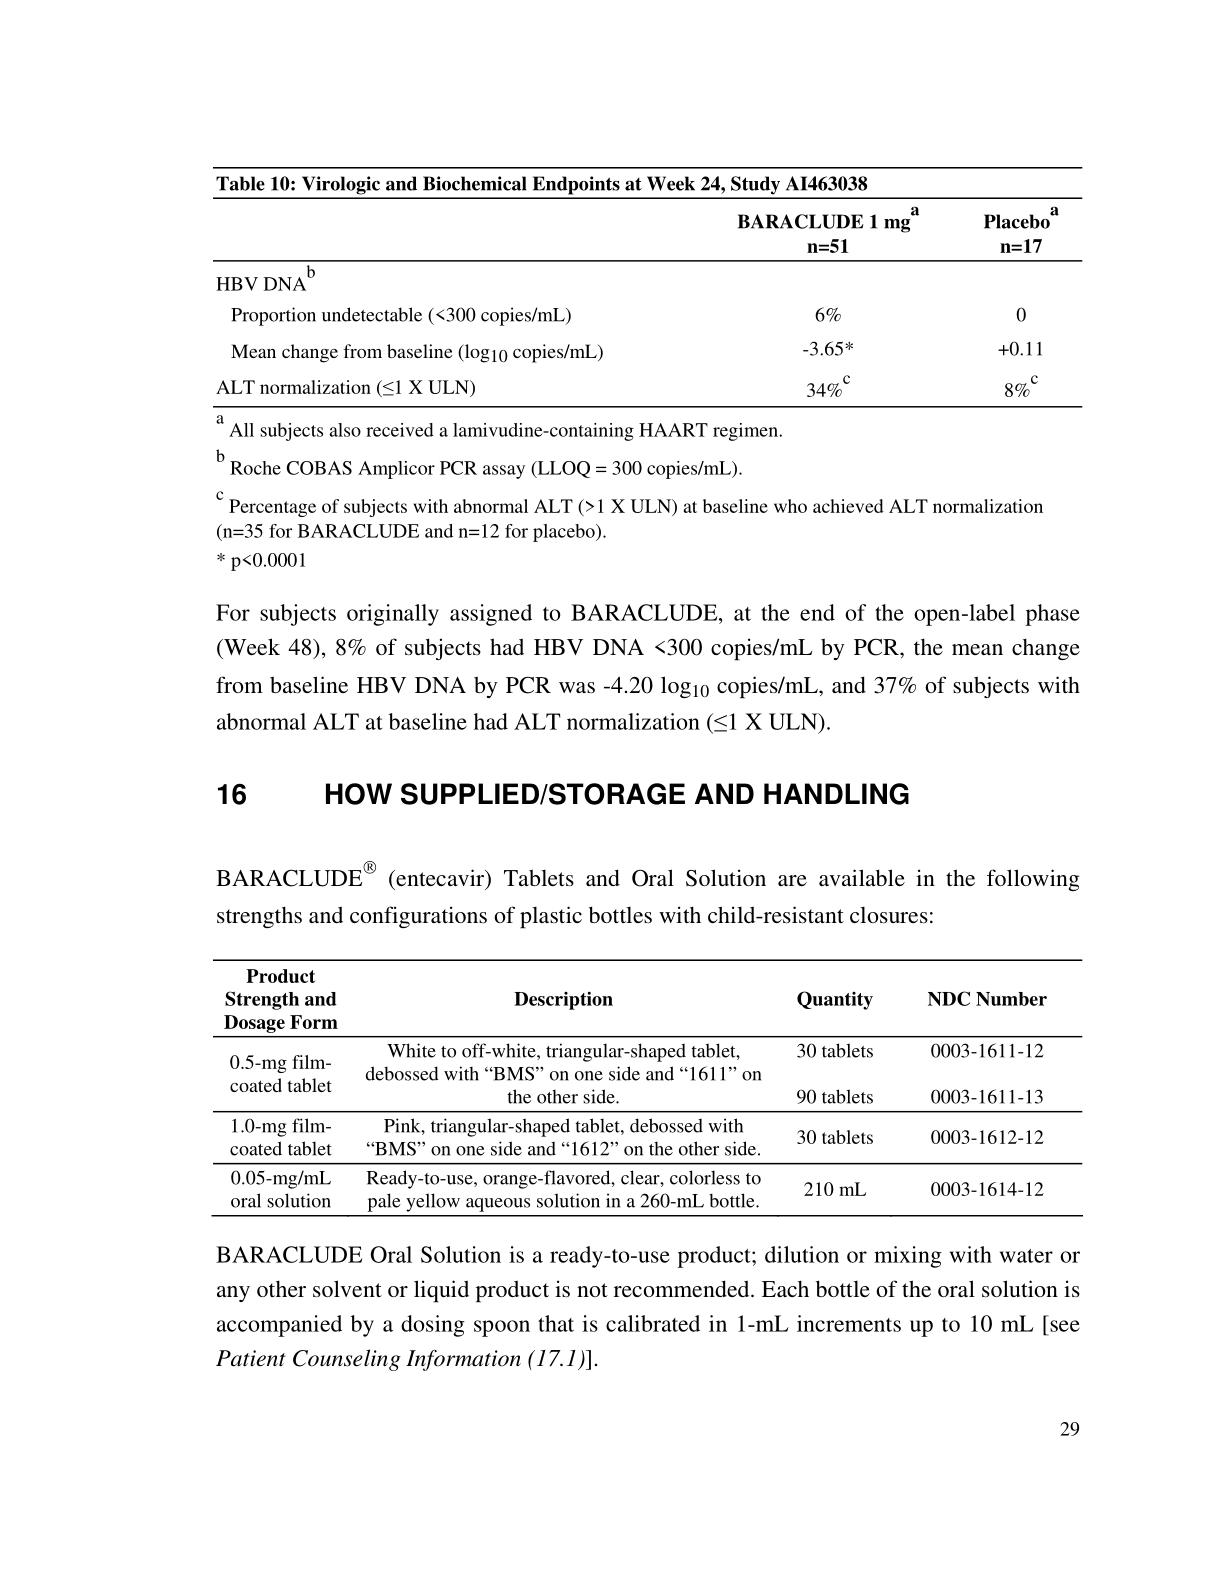partial_lined: (211, 959, 1084, 1218)
partial_lined_merged_cells: (212, 167, 1084, 408)
